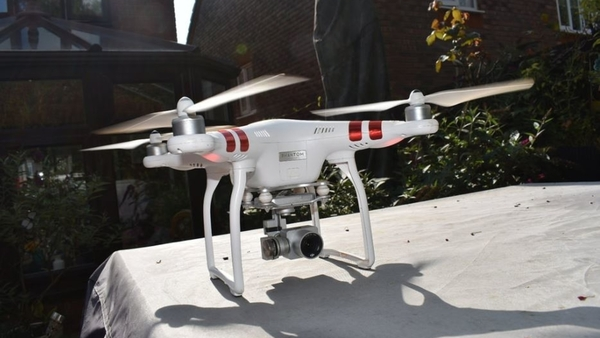drone: (79, 73, 536, 300)
